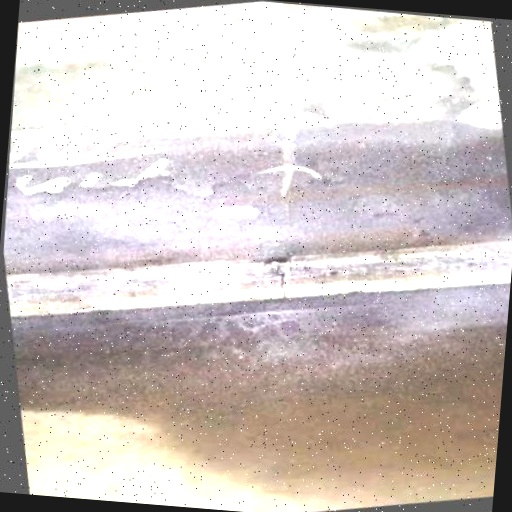crack: (269, 266, 293, 302)
